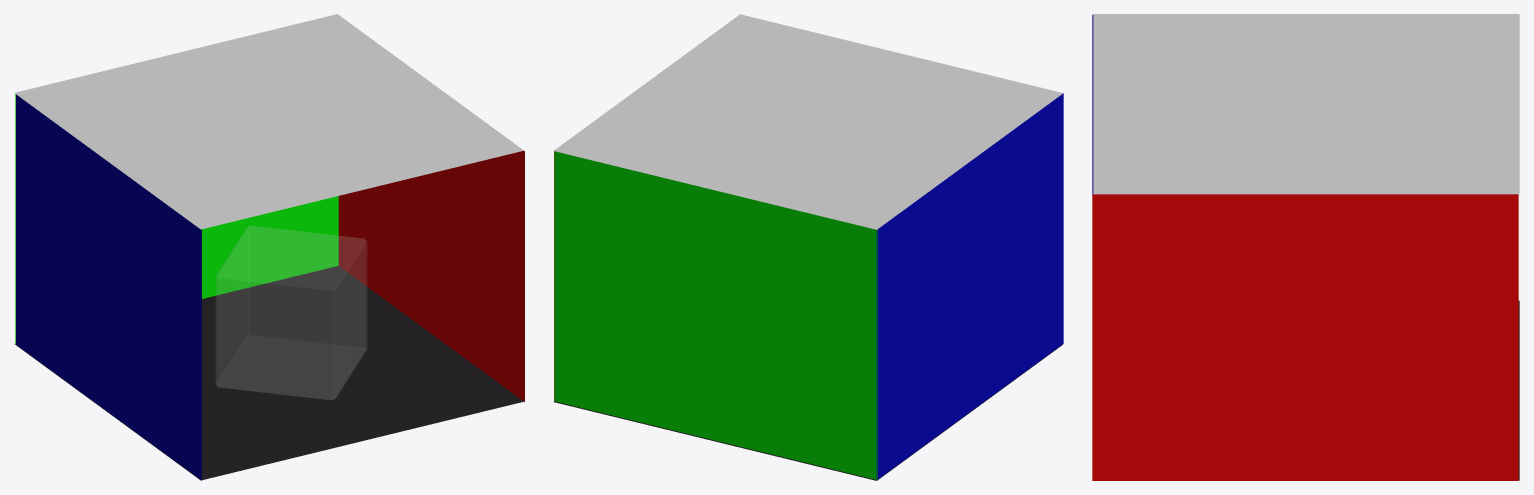
Rendered from SalleGlass1.obj.
3 views of the same model, side by side, from view 1: azimuth 30°, elevation 25°; view 2: azimuth 150°, elevation 25°; view 3: azimuth 270°, elevation 25° (orthographic). The views are drawn at different scales.
Parts seen in each view (by area): view 1: Plane.001, Plane.003, Plane, Plane.004, Cube, Plane.002; view 2: Plane.002, Plane.001, Plane.003, Plane; view 3: Plane.004, Plane.001.
Part boxes in pixels (x1,y1,x2,y2): Plane.001: (14,14,523,229); Plane.003: (16,94,201,480); Plane: (14,266,523,480); Plane.004: (338,151,524,401); Cube: (216,226,366,399); Plane.002: (15,94,338,344); Plane.002: (554,151,877,479); Plane.001: (554,14,1063,229); Plane.003: (876,93,1063,479); Plane: (554,344,1062,480); Plane.004: (1092,194,1518,480); Plane.001: (1093,14,1519,194).
Size of the model in its own units: 10.79 by 8.01 by 10.82.
